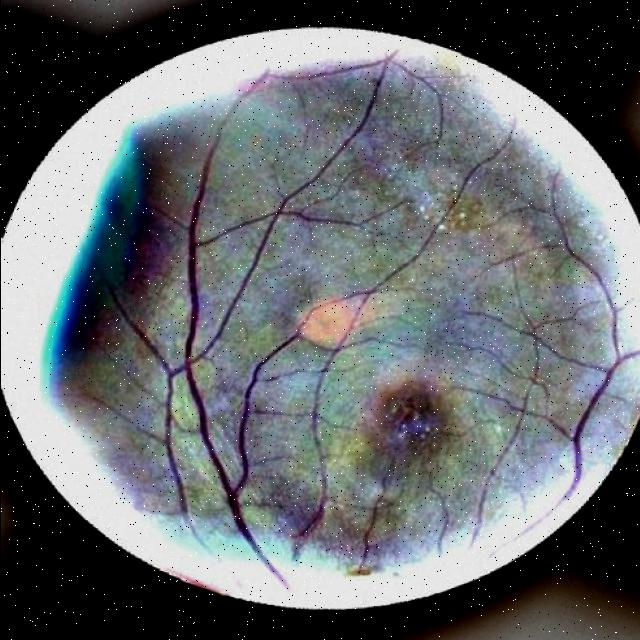Macula: (371, 373, 456, 456)
Nerves: (293, 186, 475, 551), (175, 73, 296, 586), (554, 264, 625, 497)
Optic Disk: (211, 552, 377, 610)
